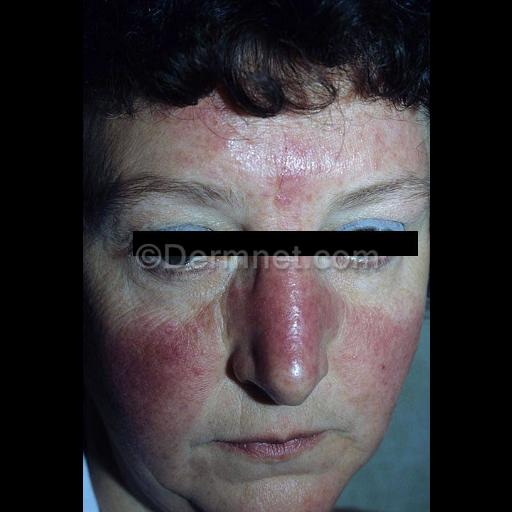Skin_Lesion: (216, 273, 342, 379), (112, 325, 200, 455), (218, 124, 326, 192), (358, 307, 400, 401)
